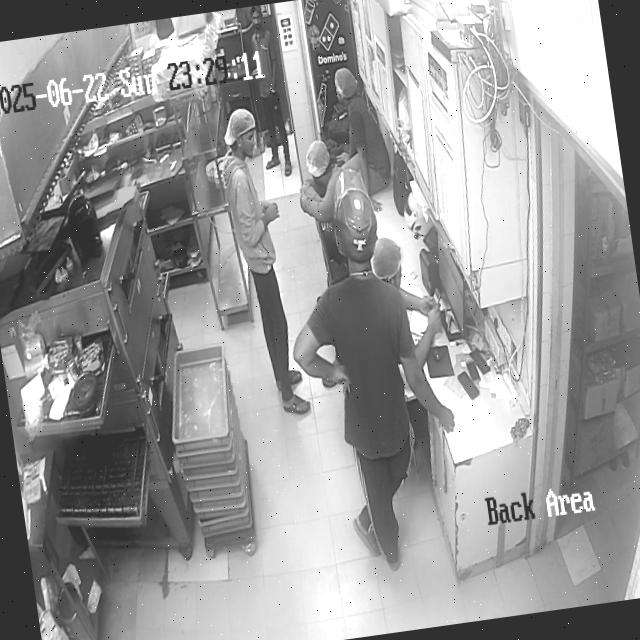helmet: (332, 168, 377, 262)
